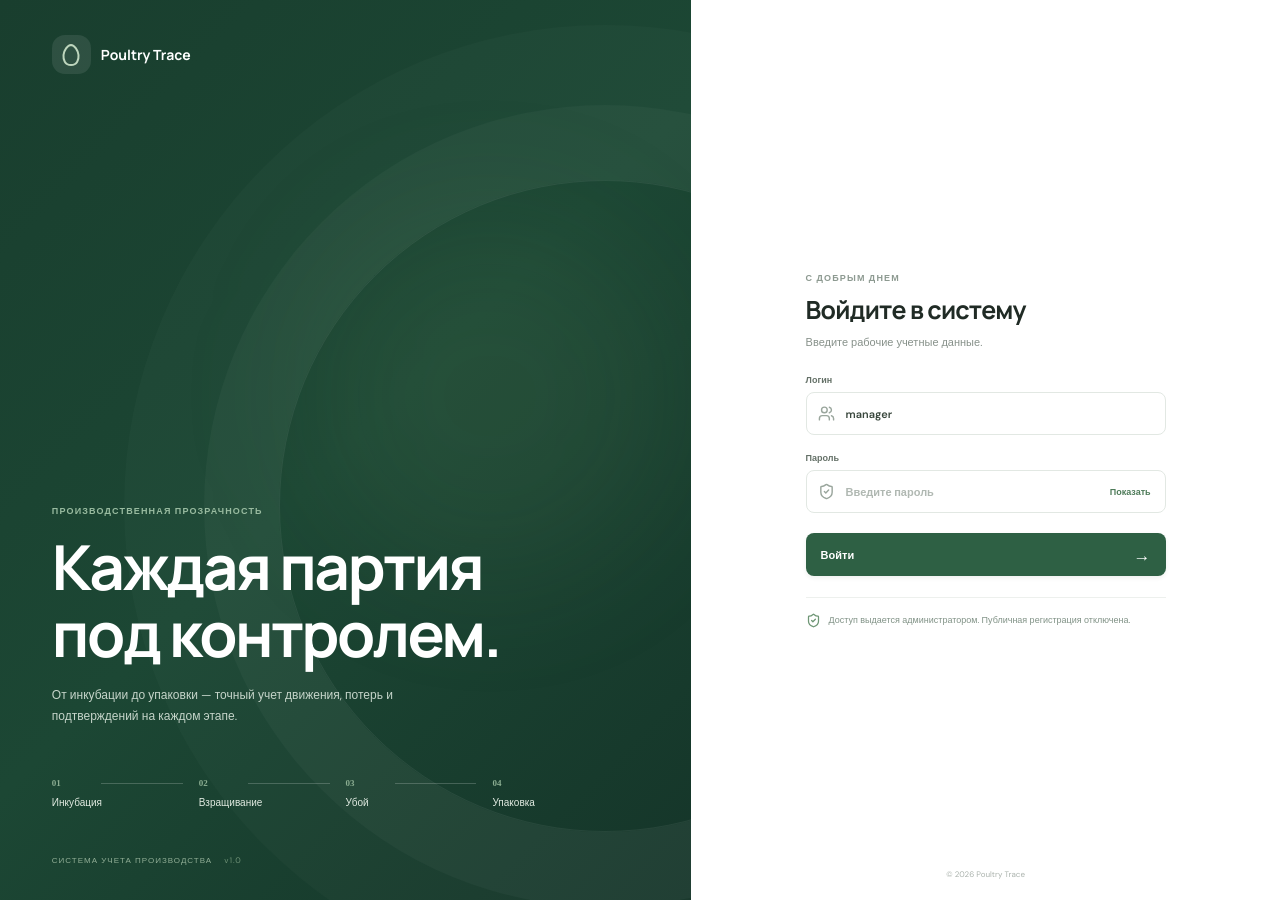
Test: login screen › shows a useful server error and lets the user reveal the password
Type "Wrong-password-2026" into the password field with placeholder "Введите пароль" at point(971, 492), box 844,484 -> 1098,500
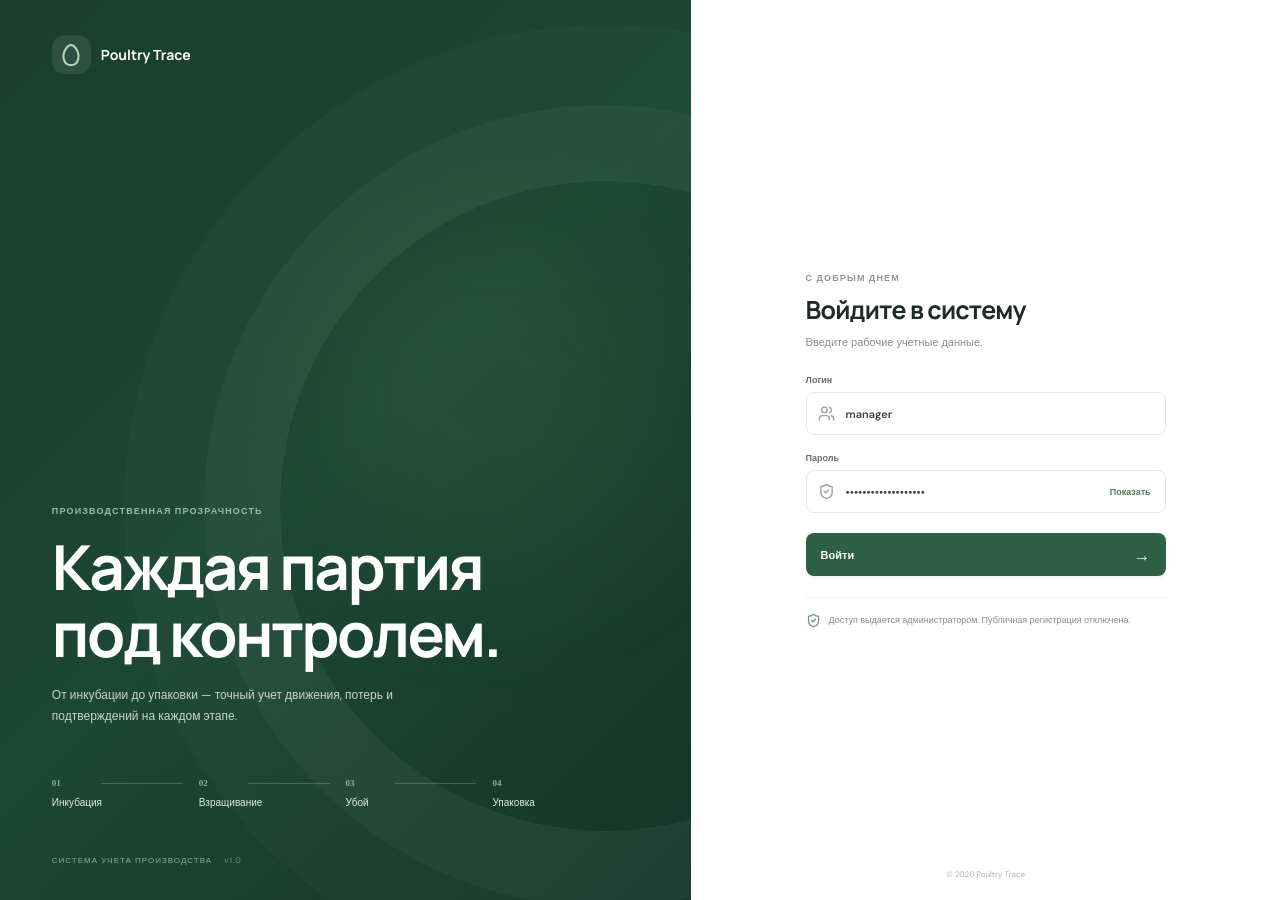
Click the button "Показать" at point(1130, 492), box 1107,482 -> 1154,500
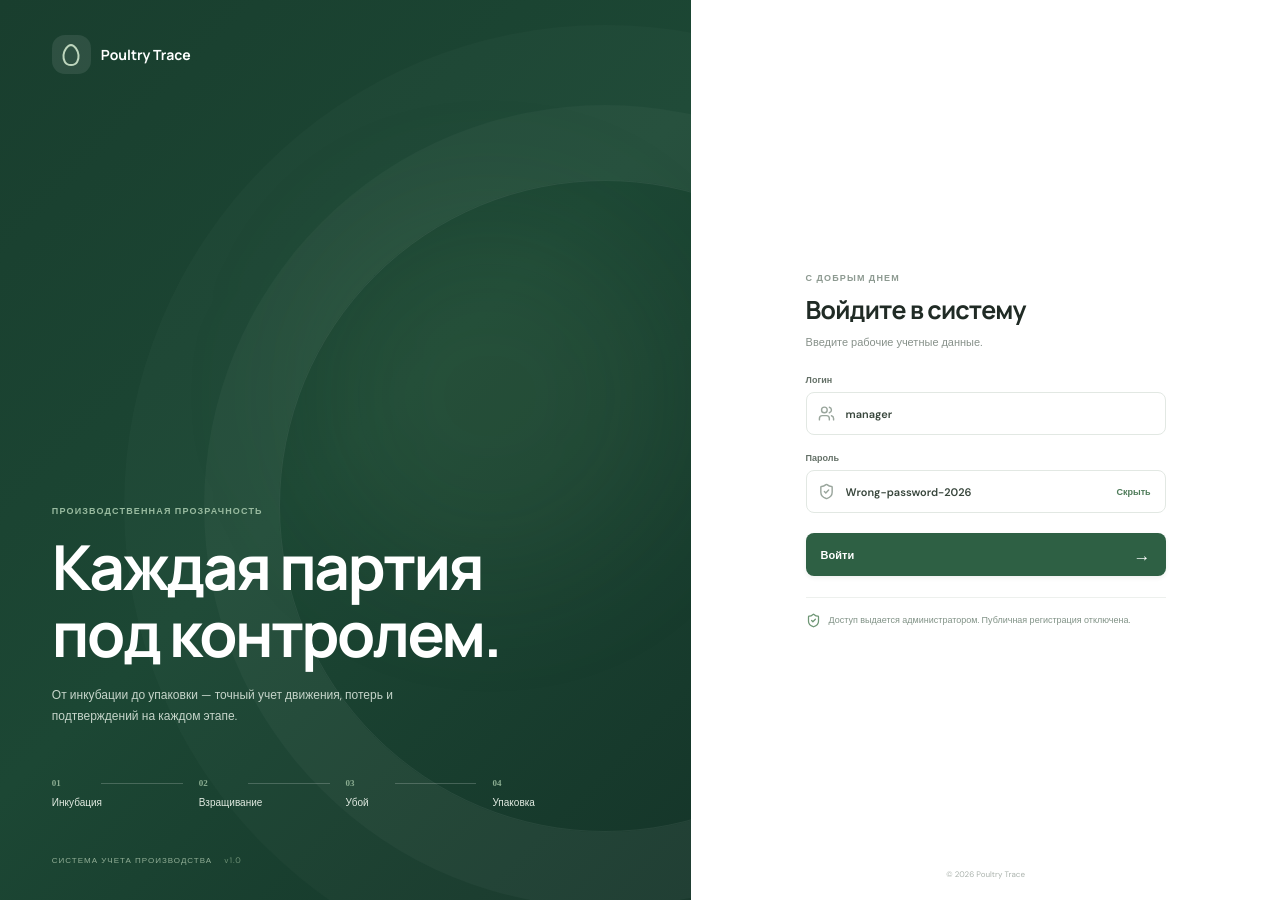
Click the button "Войти →" at point(837, 554), box 806,533 -> 1166,576
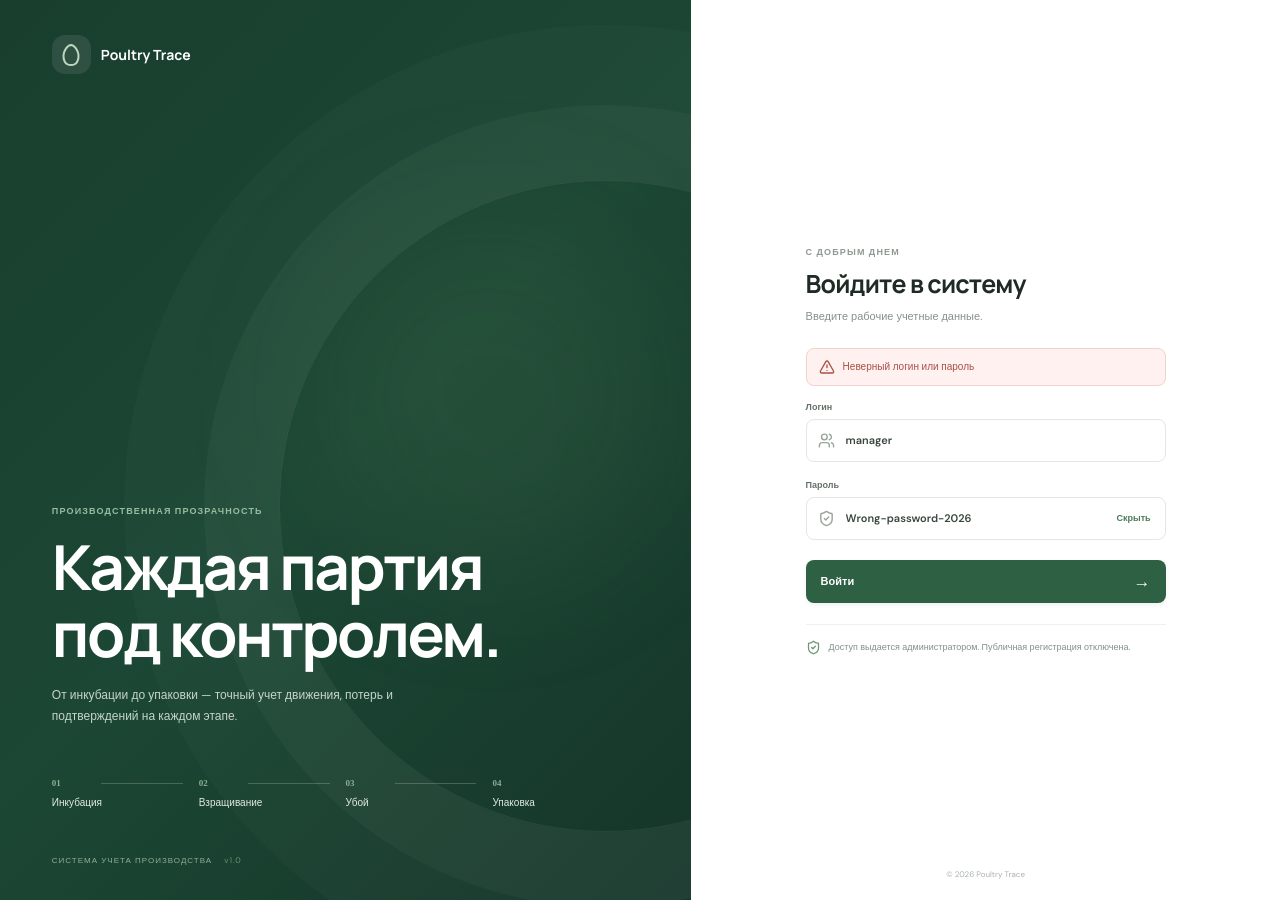
Now the text "Неверный логин или пароль" is shown, box 806,348 -> 1166,386
